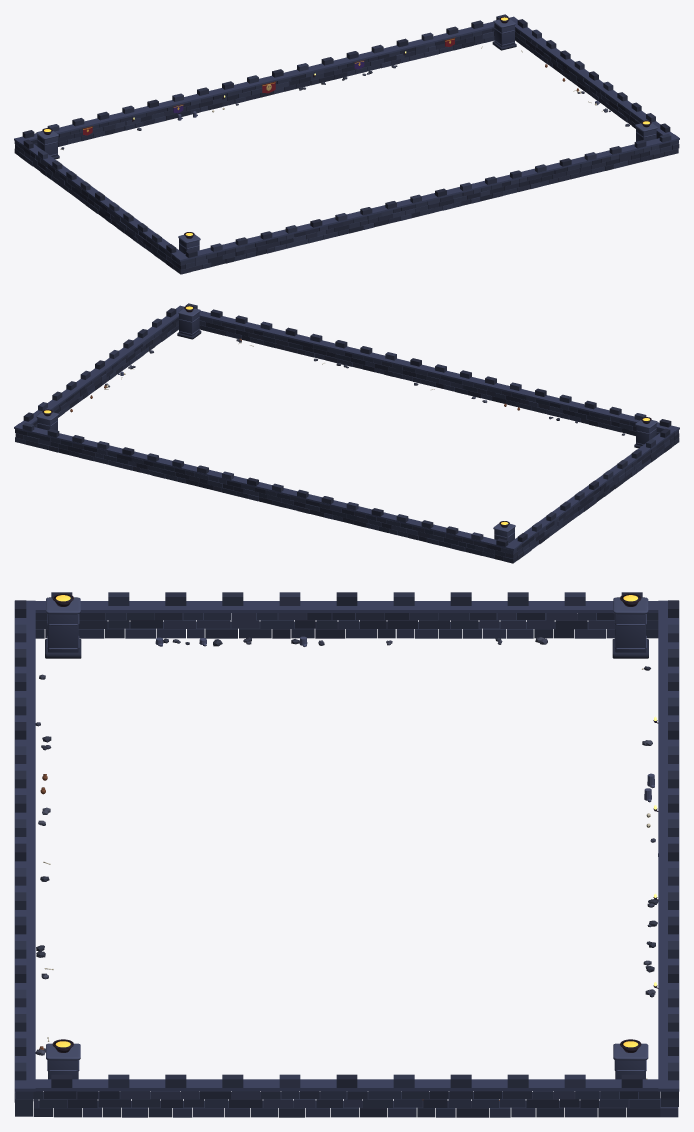
Rendered from arena.glb.
The picture shows the model from 3 angles, top to bottom: view 1: azimuth 30°, elevation 25°; view 2: azimuth 150°, elevation 25°; view 3: azimuth 270°, elevation 25°; orthographic projection. The views are drawn at different scales.
Visible parts, largest first — view 1: arena; view 2: arena; view 3: arena.
Part boxes in pixels (x1=…): arena: x1=14, y1=14, x2=679, y2=274; arena: x1=14, y1=303, x2=679, y2=563; arena: x1=14, y1=592, x2=679, y2=1117.
Size of the model in its own units: 166 by 8.74 by 95.32.
